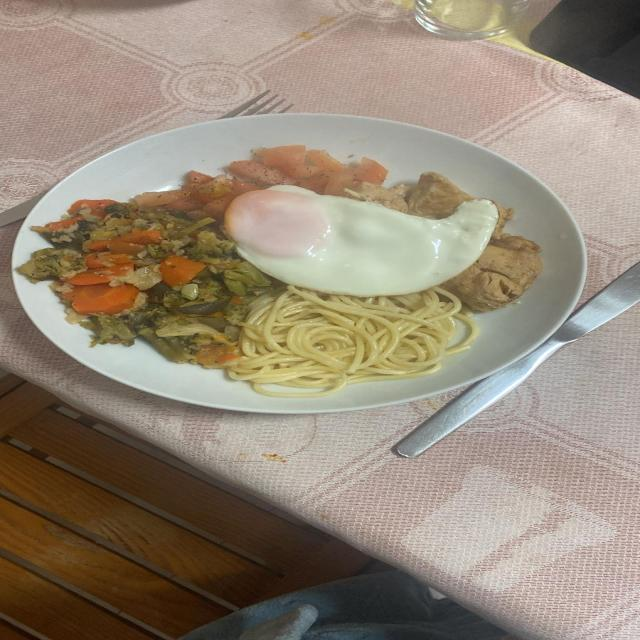chicken: (439, 206, 541, 312), (346, 173, 476, 218)
fried egg: (225, 185, 498, 297)
knife: (395, 262, 639, 458)
plate: (11, 113, 586, 414)
spaghetti: (228, 286, 475, 398)
tomato: (129, 140, 390, 220)
vegetables: (18, 200, 279, 367)
